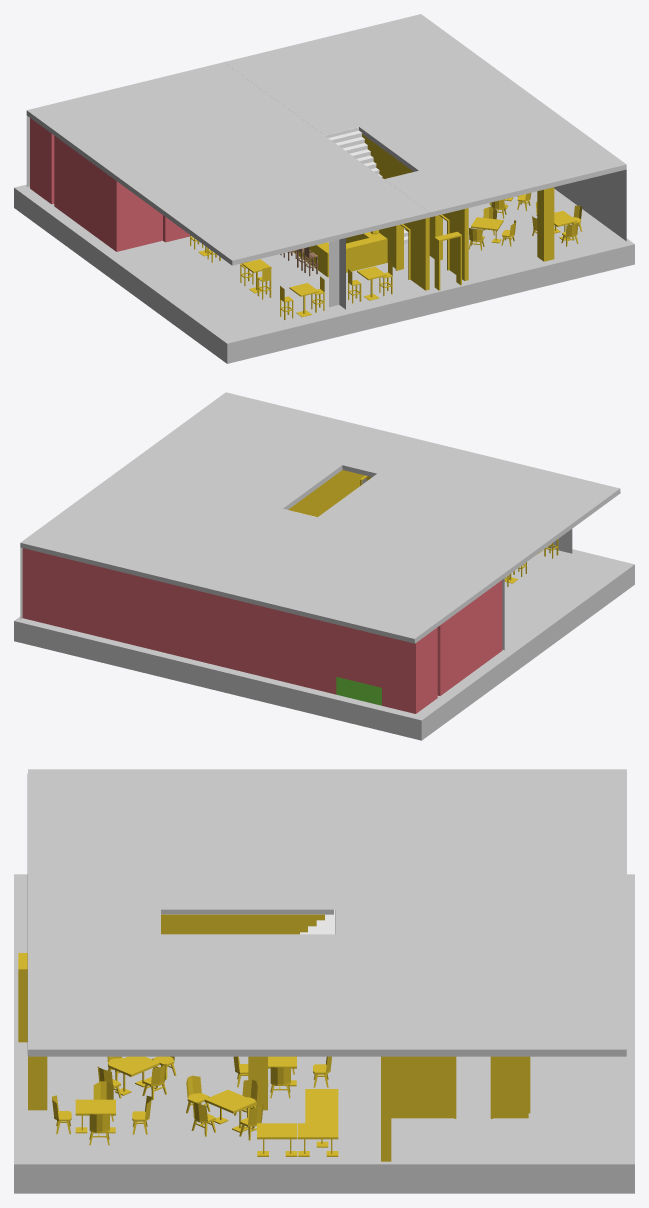
The model's file is hotel_interiors_no_extra_3.glb.
3 renders of one model, top to bottom at view 1: azimuth 30°, elevation 25°; view 2: azimuth 150°, elevation 25°; view 3: azimuth 270°, elevation 25°, orthographic. The views are drawn at different scales.
Parts seen in each view (by area): view 1: Ceiling-col, Floor-col, back_bar-col, main_hallway-col, bar_front-col, outer_walls_and_pillers-col, restaurant-col, Stairs-col; view 2: Ceiling-col, Floor-col, back_bar-col, backhallway_walls-col, main_hallway-col, outer_walls_and_pillers-col; view 3: Ceiling-col, Floor-col, restaurant-col, main_hallway-col.
Boxes of the visible parts, x1,y1,x2,y2 form: Ceiling-col: (26, 14, 626, 265); Floor-col: (14, 184, 634, 363); back_bar-col: (30, 118, 189, 251); main_hallway-col: (362, 134, 468, 290); bar_front-col: (190, 230, 392, 319); outer_walls_and_pillers-col: (26, 115, 626, 309); restaurant-col: (468, 187, 582, 261); Stairs-col: (324, 127, 408, 243); Ceiling-col: (20, 392, 620, 643); Floor-col: (14, 547, 634, 740); back_bar-col: (229, 580, 502, 713); backhallway_walls-col: (22, 548, 228, 668); main_hallway-col: (288, 470, 371, 517); outer_walls_and_pillers-col: (20, 478, 572, 650); Ceiling-col: (27, 769, 626, 1056); Floor-col: (14, 874, 634, 1193); restaurant-col: (28, 1056, 530, 1161); main_hallway-col: (18, 914, 324, 1042).
Size of the model in its own units: 17.73 by 4.04 by 16.06.
Materials: 8 (1 with a texture image).
